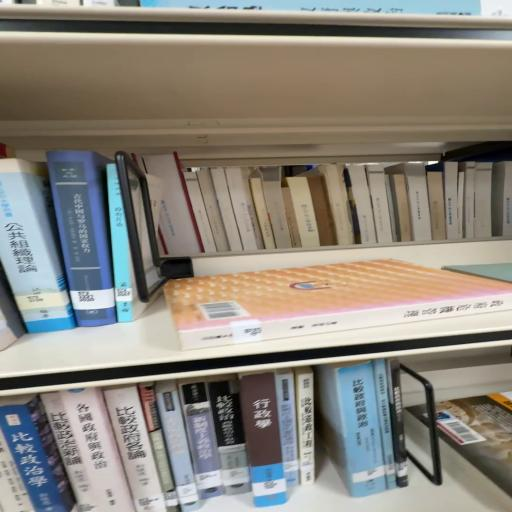flat: (165, 260, 512, 351)
